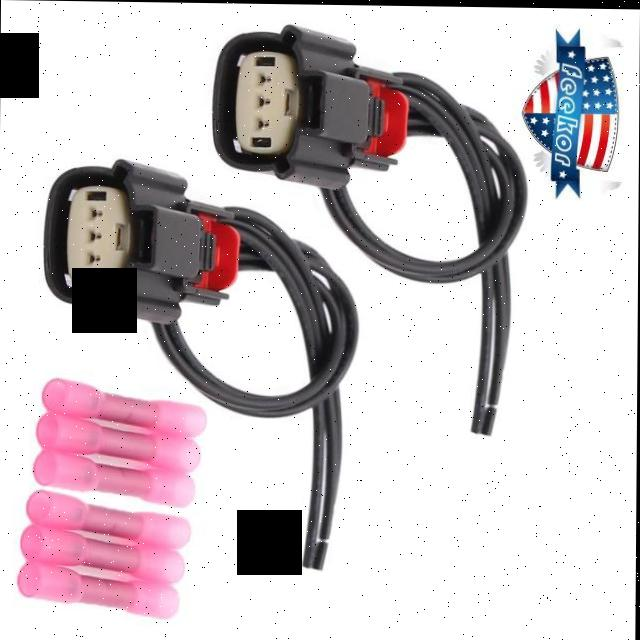connector: (45, 159, 251, 323), (213, 24, 405, 185)
